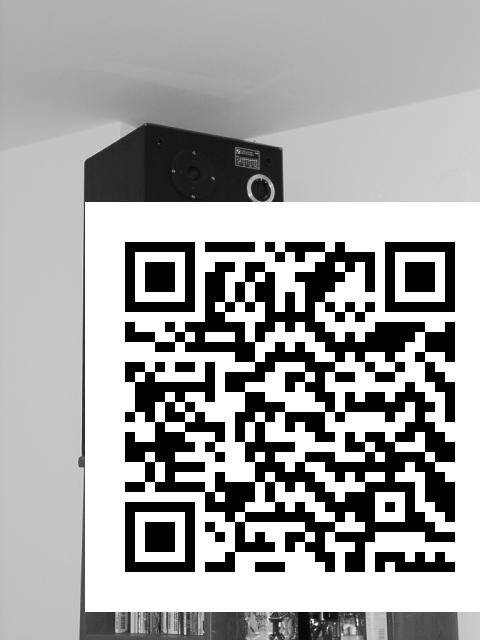qr_code: (86, 202, 480, 613)
